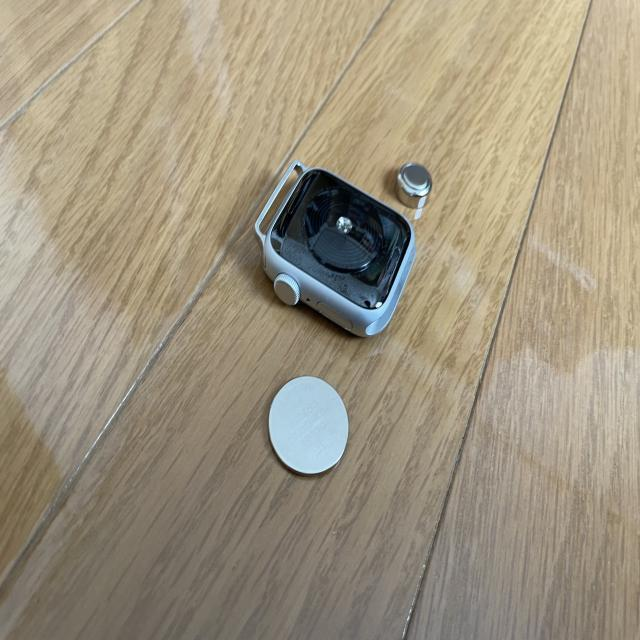COIN: (268, 377, 350, 475), (396, 160, 433, 209)
